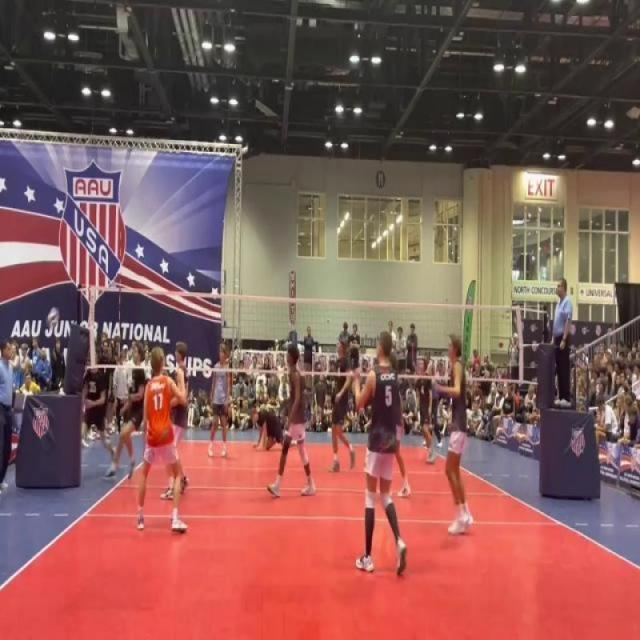volleyball: (48, 304, 60, 326)
